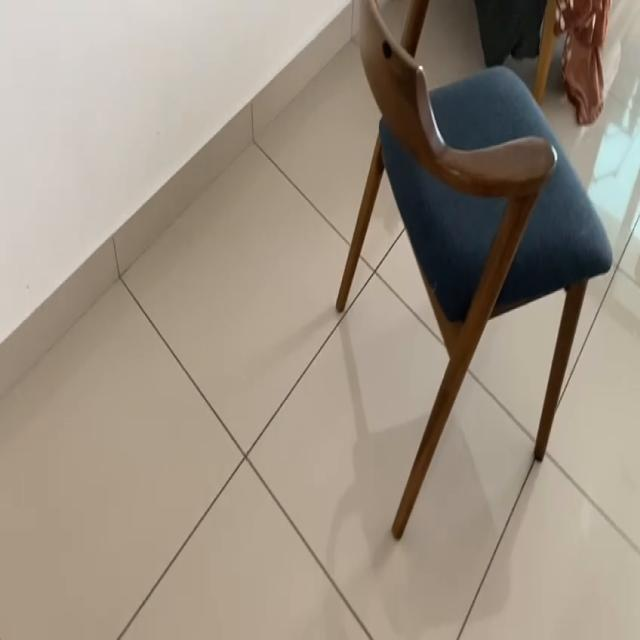Chair: (346, 11, 614, 525)
